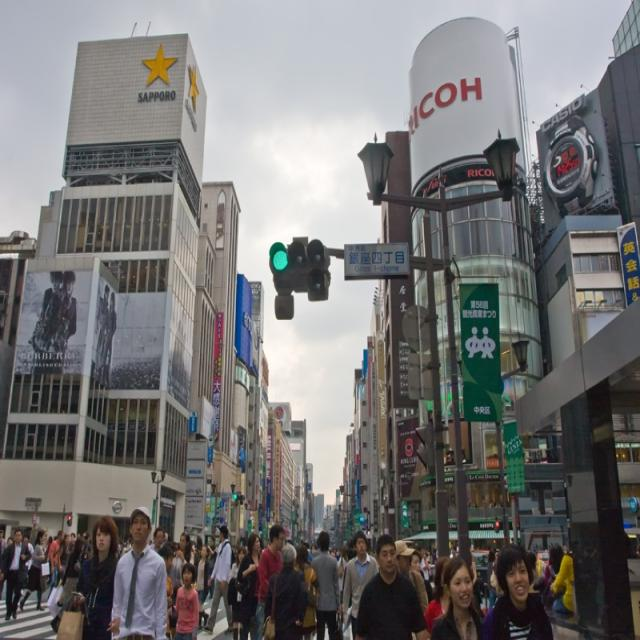body: (51, 515, 124, 639), (109, 506, 170, 640), (354, 534, 430, 640), (484, 544, 554, 639), (429, 557, 484, 640), (262, 543, 308, 639), (343, 530, 381, 639), (202, 524, 235, 634), (28, 268, 62, 374), (309, 529, 341, 639), (256, 524, 286, 639), (236, 533, 262, 640), (32, 269, 65, 353), (394, 539, 429, 617), (291, 542, 319, 639), (18, 529, 49, 611), (4, 528, 31, 621), (329, 530, 354, 627), (425, 556, 453, 640), (170, 563, 200, 639), (469, 544, 500, 614), (226, 545, 248, 640), (548, 543, 575, 617), (154, 545, 174, 640), (100, 291, 118, 387), (171, 530, 196, 587), (193, 544, 209, 632), (46, 529, 66, 589), (18, 533, 36, 597), (528, 550, 553, 593), (406, 539, 438, 571), (94, 283, 111, 331), (57, 535, 72, 586), (70, 529, 90, 566), (0, 528, 8, 601), (305, 534, 319, 566), (148, 526, 168, 546), (115, 536, 130, 560), (238, 428, 246, 472), (421, 571, 434, 597), (2, 536, 16, 554), (562, 536, 572, 556), (208, 538, 218, 553), (450, 543, 460, 558), (193, 542, 200, 558), (169, 542, 178, 549), (232, 544, 238, 553), (286, 539, 294, 544)
